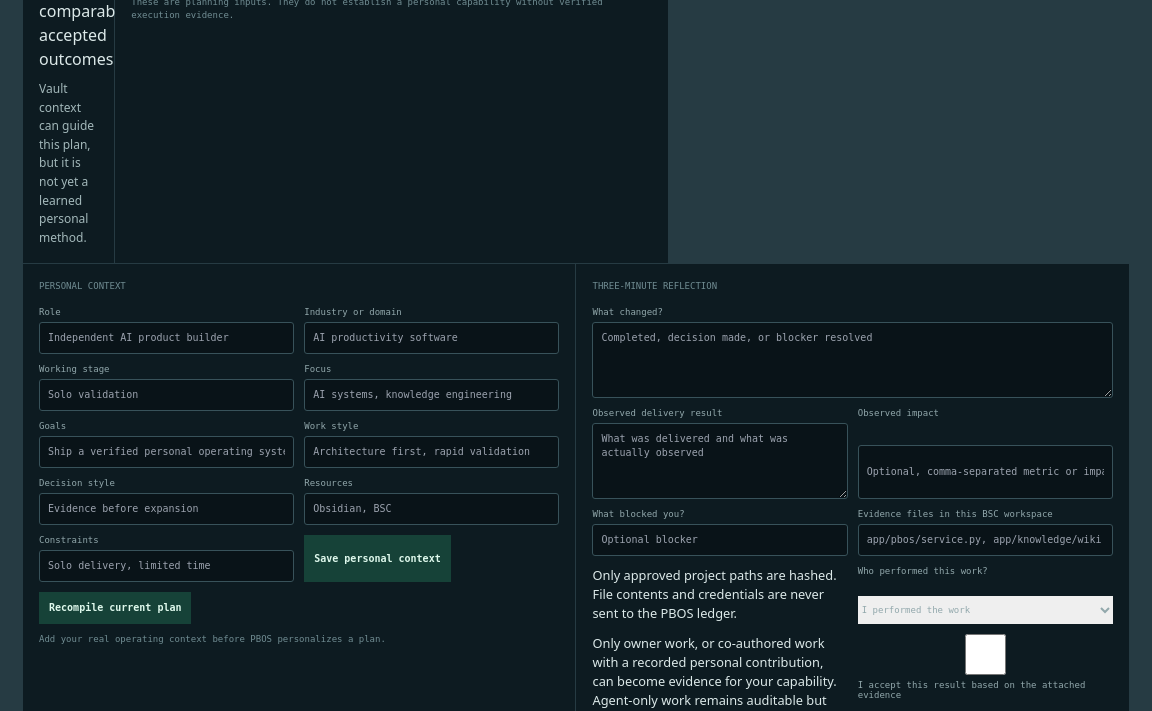
PersonalGrowthCockpit › requires a declared personal contribution before mixed work can enter the evidence ledger
This screenshot has width=1152, height=711.
(page scrolled)
Expected: the text "THREE-MINUTE REFLECTION" is shown, [592,281,717,291]
Type "Reviewed the agent implementation." into the text box labelled "What changed?" at (853, 360), box [592,322,1113,398]
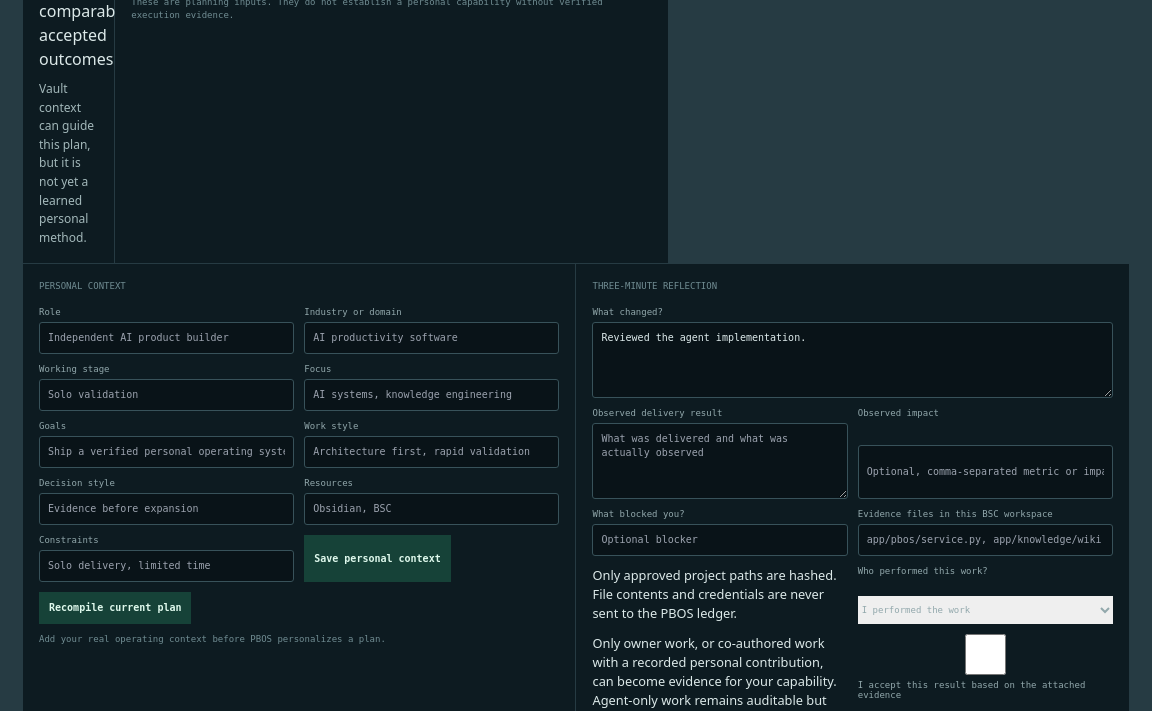
Type "A reviewable mixed delivery exists." into the text box labelled "Observed delivery result" at (720, 461), box [592,423,848,499]
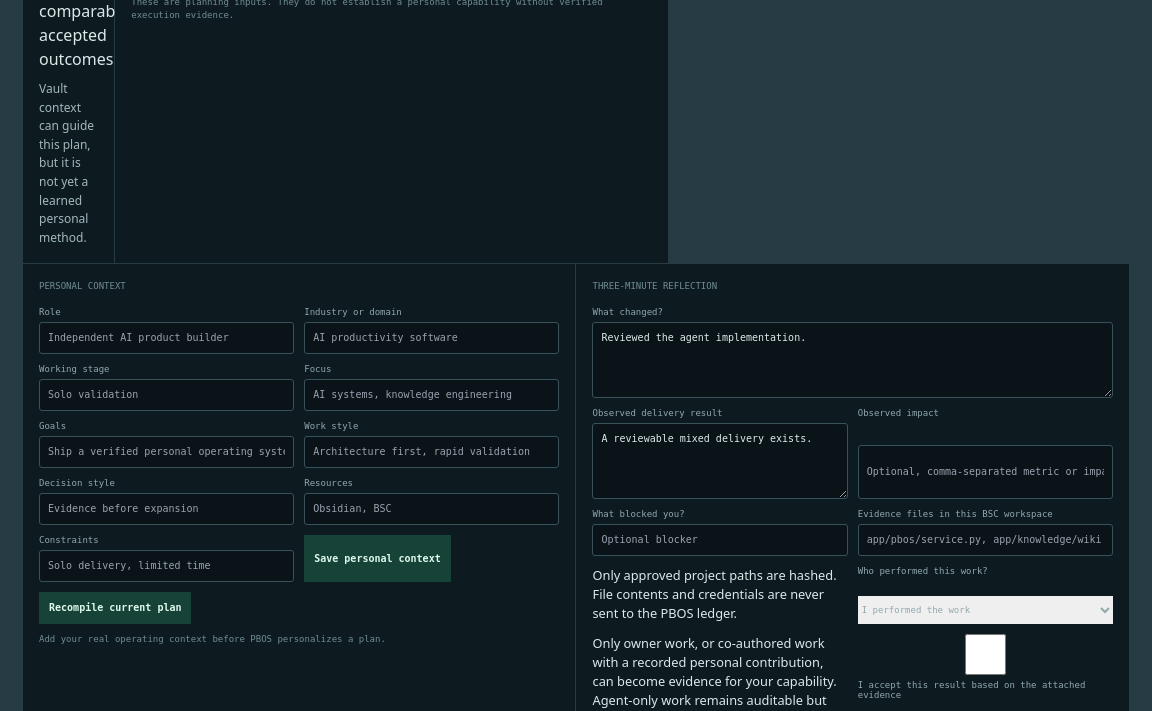
Select "I co-authored the work with an agent" in the dropdown labelled "Who performed this work?" at (985, 610), box [858,596,1113,624]
(page scrolled)
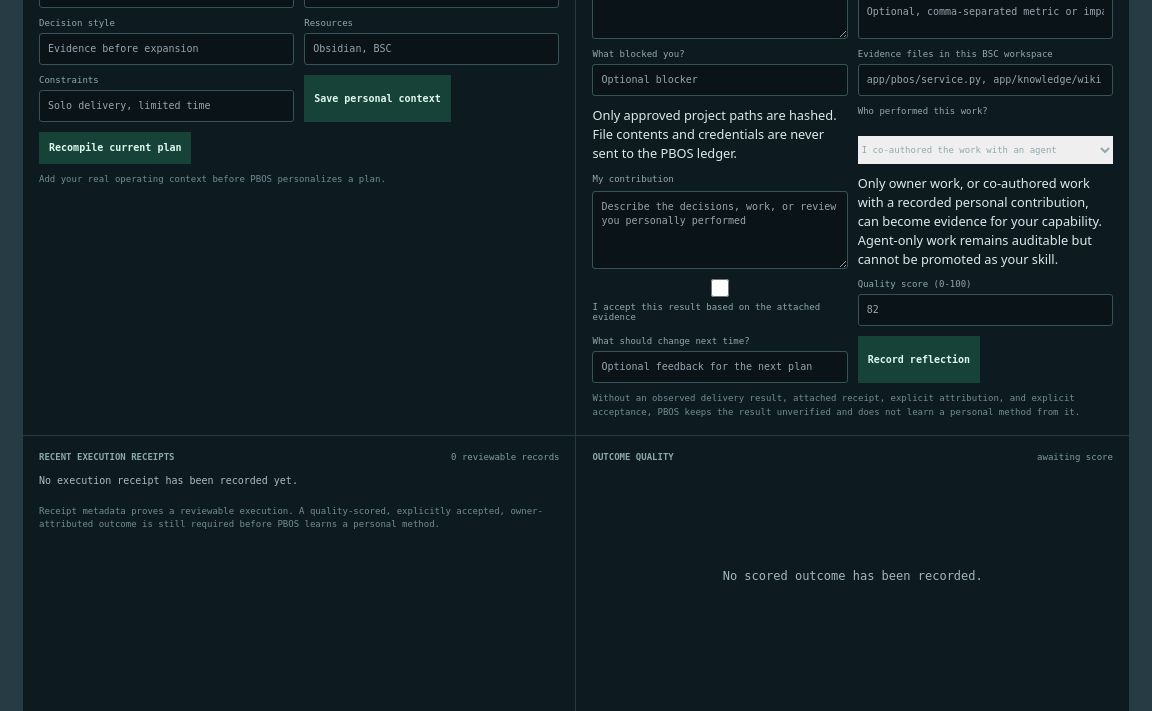
Click the button "Record reflection" at (919, 360), box [858,336,980,383]
(page scrolled)
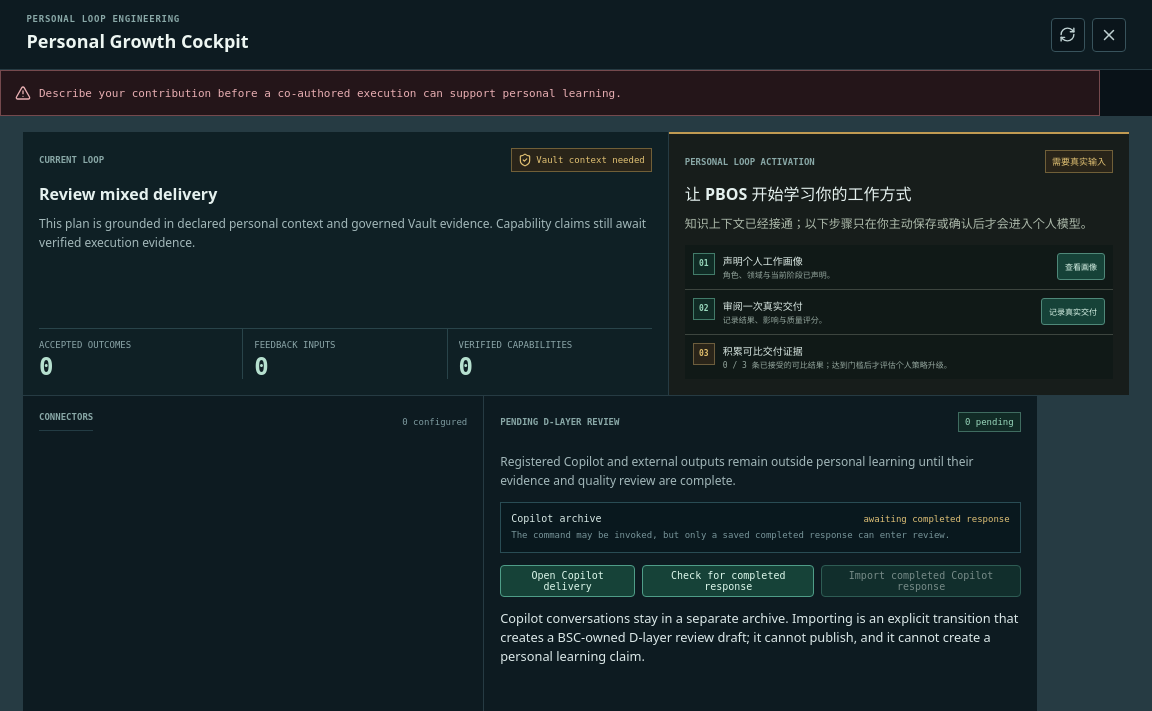
Expected: the text "Describe your contribution" is shown, [39,86,622,100]
